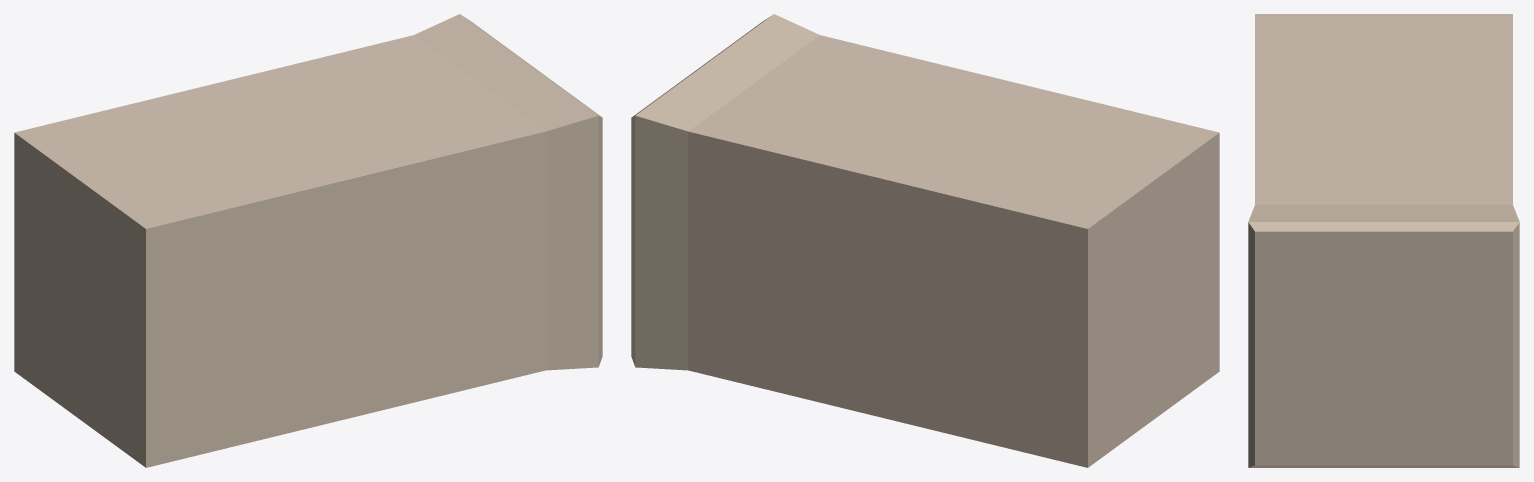
Rendered from RabbitTrap.dae.
3 views of the same model, side by side, from view 1: azimuth 30°, elevation 25°; view 2: azimuth 150°, elevation 25°; view 3: azimuth 270°, elevation 25° (orthographic). The views are drawn at different scales.
Parts seen in each view (by area): view 1: Cube; view 2: Cube; view 3: Cube.
Part boxes in pixels (x1,y1,x2,y2): Cube: (14,14,602,467); Cube: (631,14,1219,467); Cube: (1248,14,1519,467).
Bounding box in the file's own units: 4 × 2.11 × 2.11.
